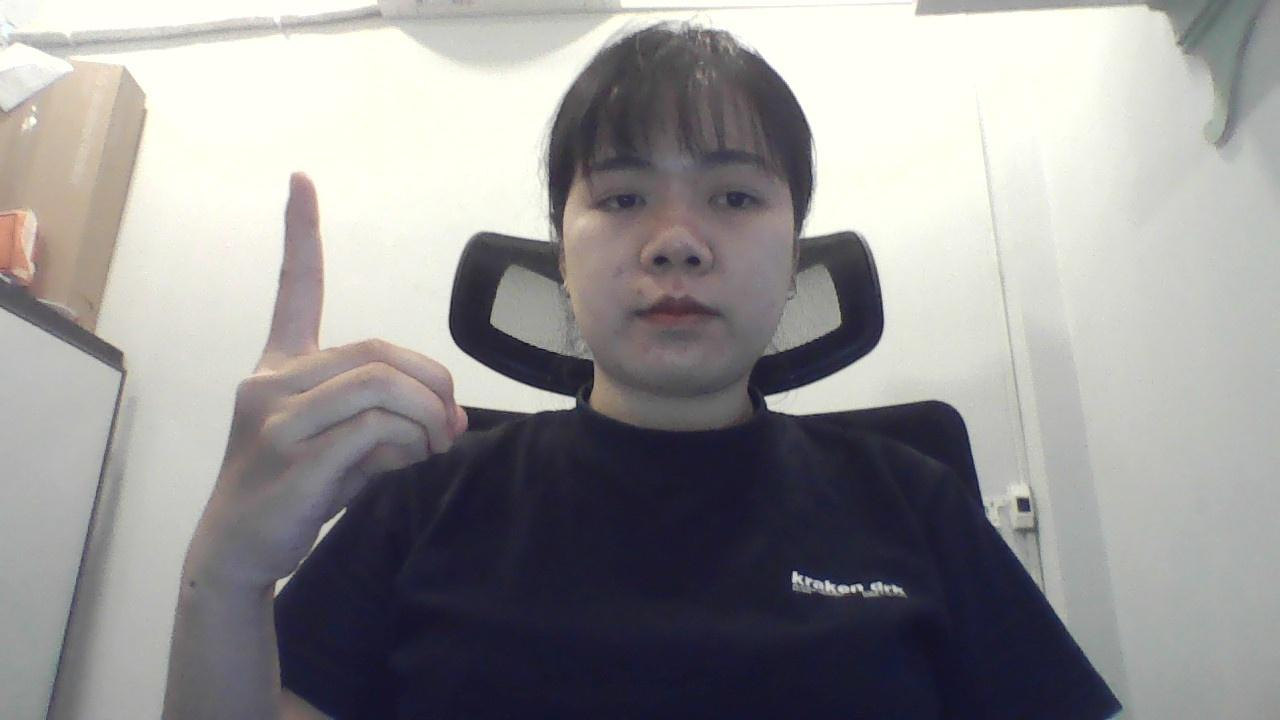D: (155, 167, 472, 624)
